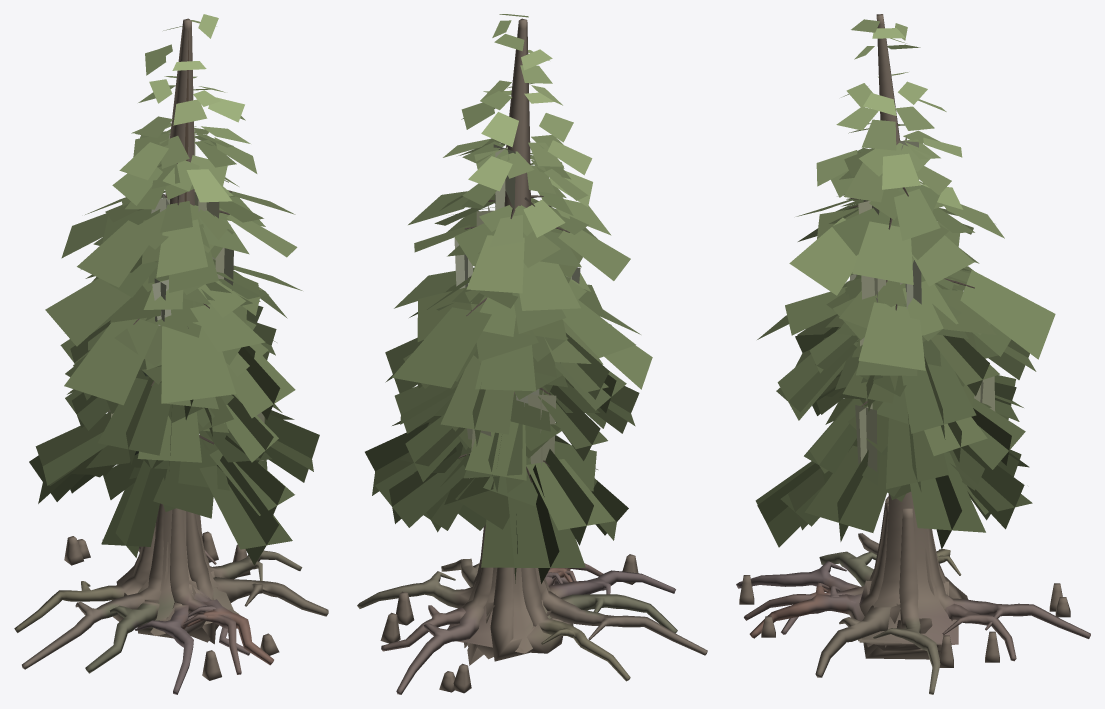
The model's file is cypress_1.glb.
3 views of the same model, side by side, from view 1: azimuth 30°, elevation 25°; view 2: azimuth 150°, elevation 25°; view 3: azimuth 270°, elevation 25° (orthographic).
Parts seen in each view (by area): view 1: cypress_1; view 2: cypress_1; view 3: cypress_1.
Part boxes in pixels (x1,y1,x2,y2): cypress_1: (14, 14, 328, 694); cypress_1: (357, 14, 707, 694); cypress_1: (736, 14, 1090, 694).
Size of the model in its own units: 6.89 by 13.18 by 6.66.
